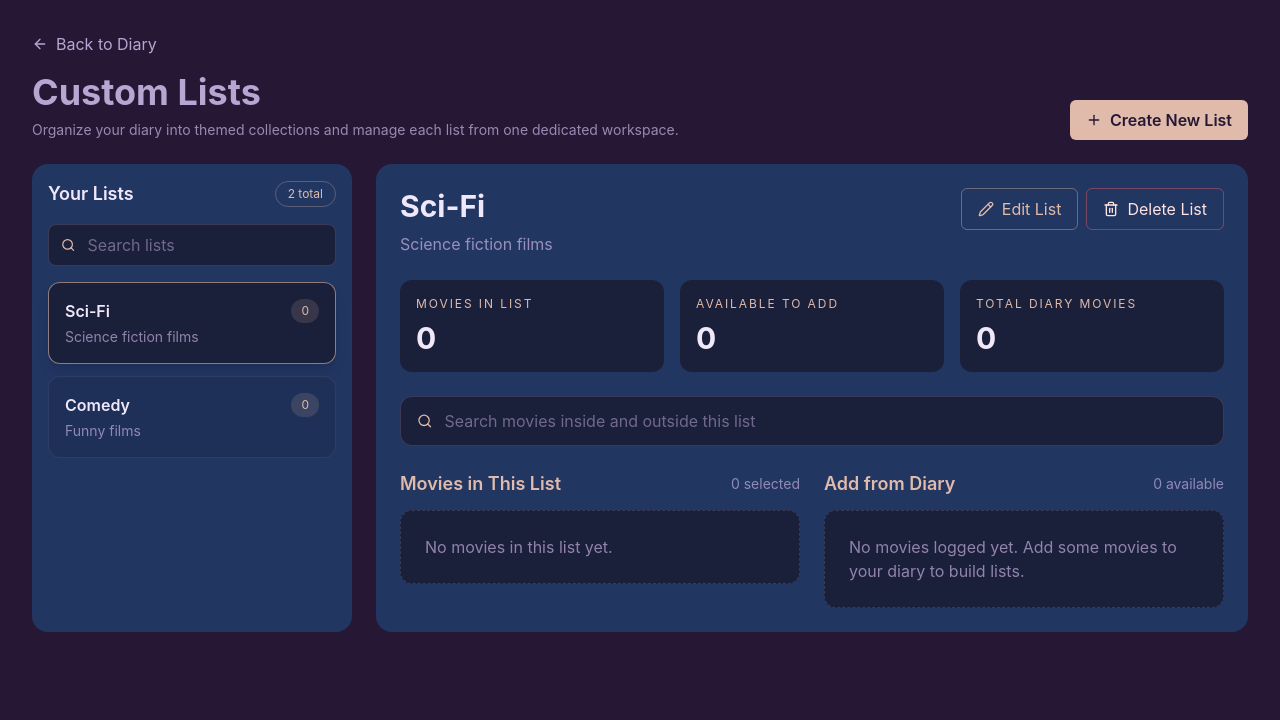
Test: CustomLists › changes the active list when a different list card is clicked
What coordinates should you click on to do the following:
click the button "Comedy Funny films 0"
I would click on:
 (97, 405)
Its box is x1=48 y1=376 x2=336 y2=458.
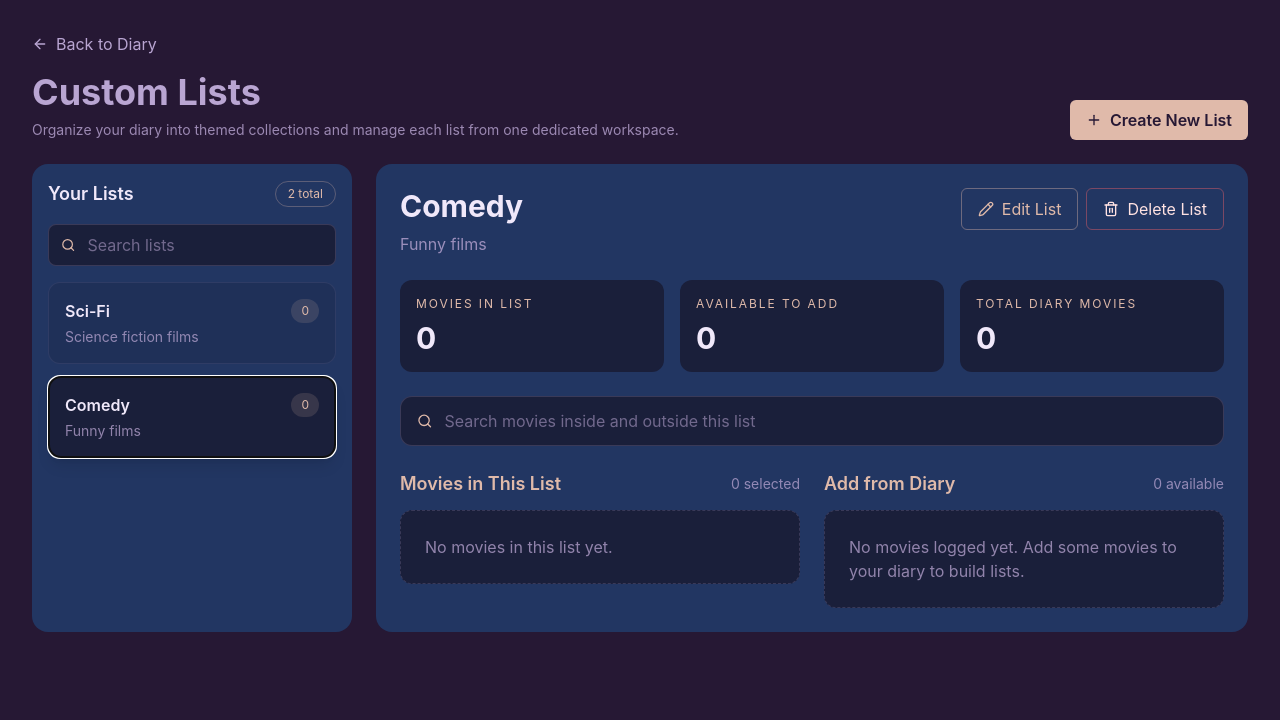
Expected: the text "Funny films" is shown 2 times, x1=65 y1=421 x2=141 y2=441; x1=400 y1=234 x2=487 y2=254
Expected: the heading "Comedy" is shown, x1=400 y1=188 x2=523 y2=224
